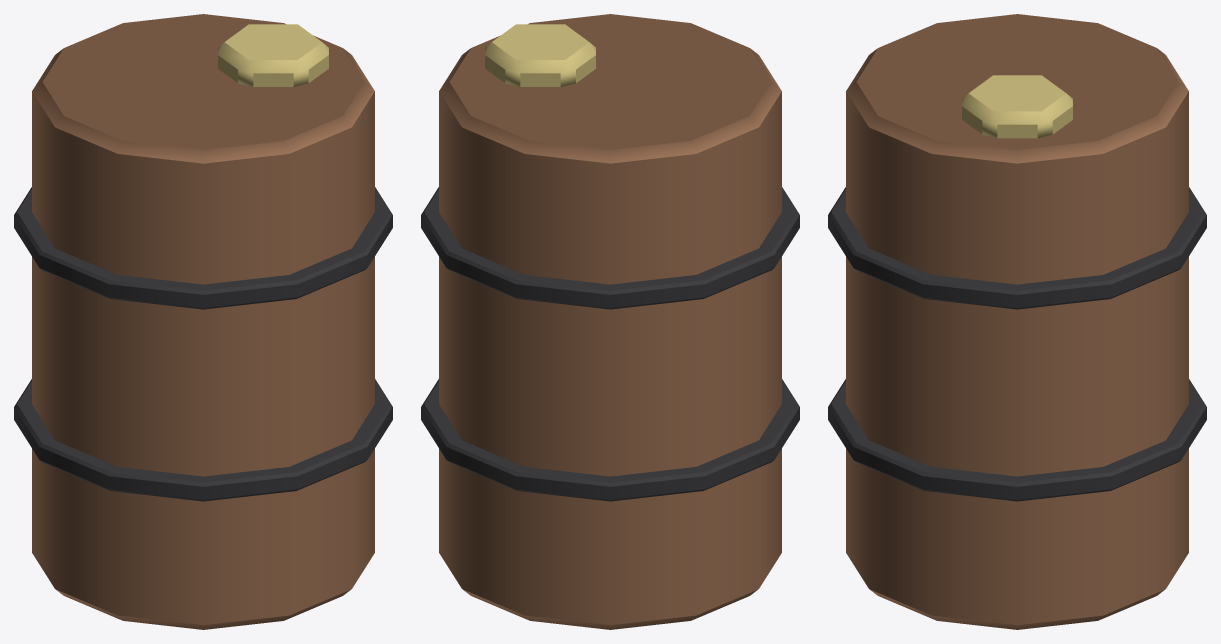
Rendered from prop_barrel.glb.
The picture shows the model from 3 angles, left to right: view 1: azimuth 30°, elevation 25°; view 2: azimuth 150°, elevation 25°; view 3: azimuth 270°, elevation 25°; orthographic projection.
Visible parts, largest first — view 1: Barrel; view 2: Barrel; view 3: Barrel.
Boxes of the visible parts, x1,y1,x2,y2 form: Barrel: (14, 14, 392, 629); Barrel: (421, 14, 799, 629); Barrel: (828, 14, 1206, 629).
Size of the model in its own units: 0.7512 by 1.1 by 0.7512.
